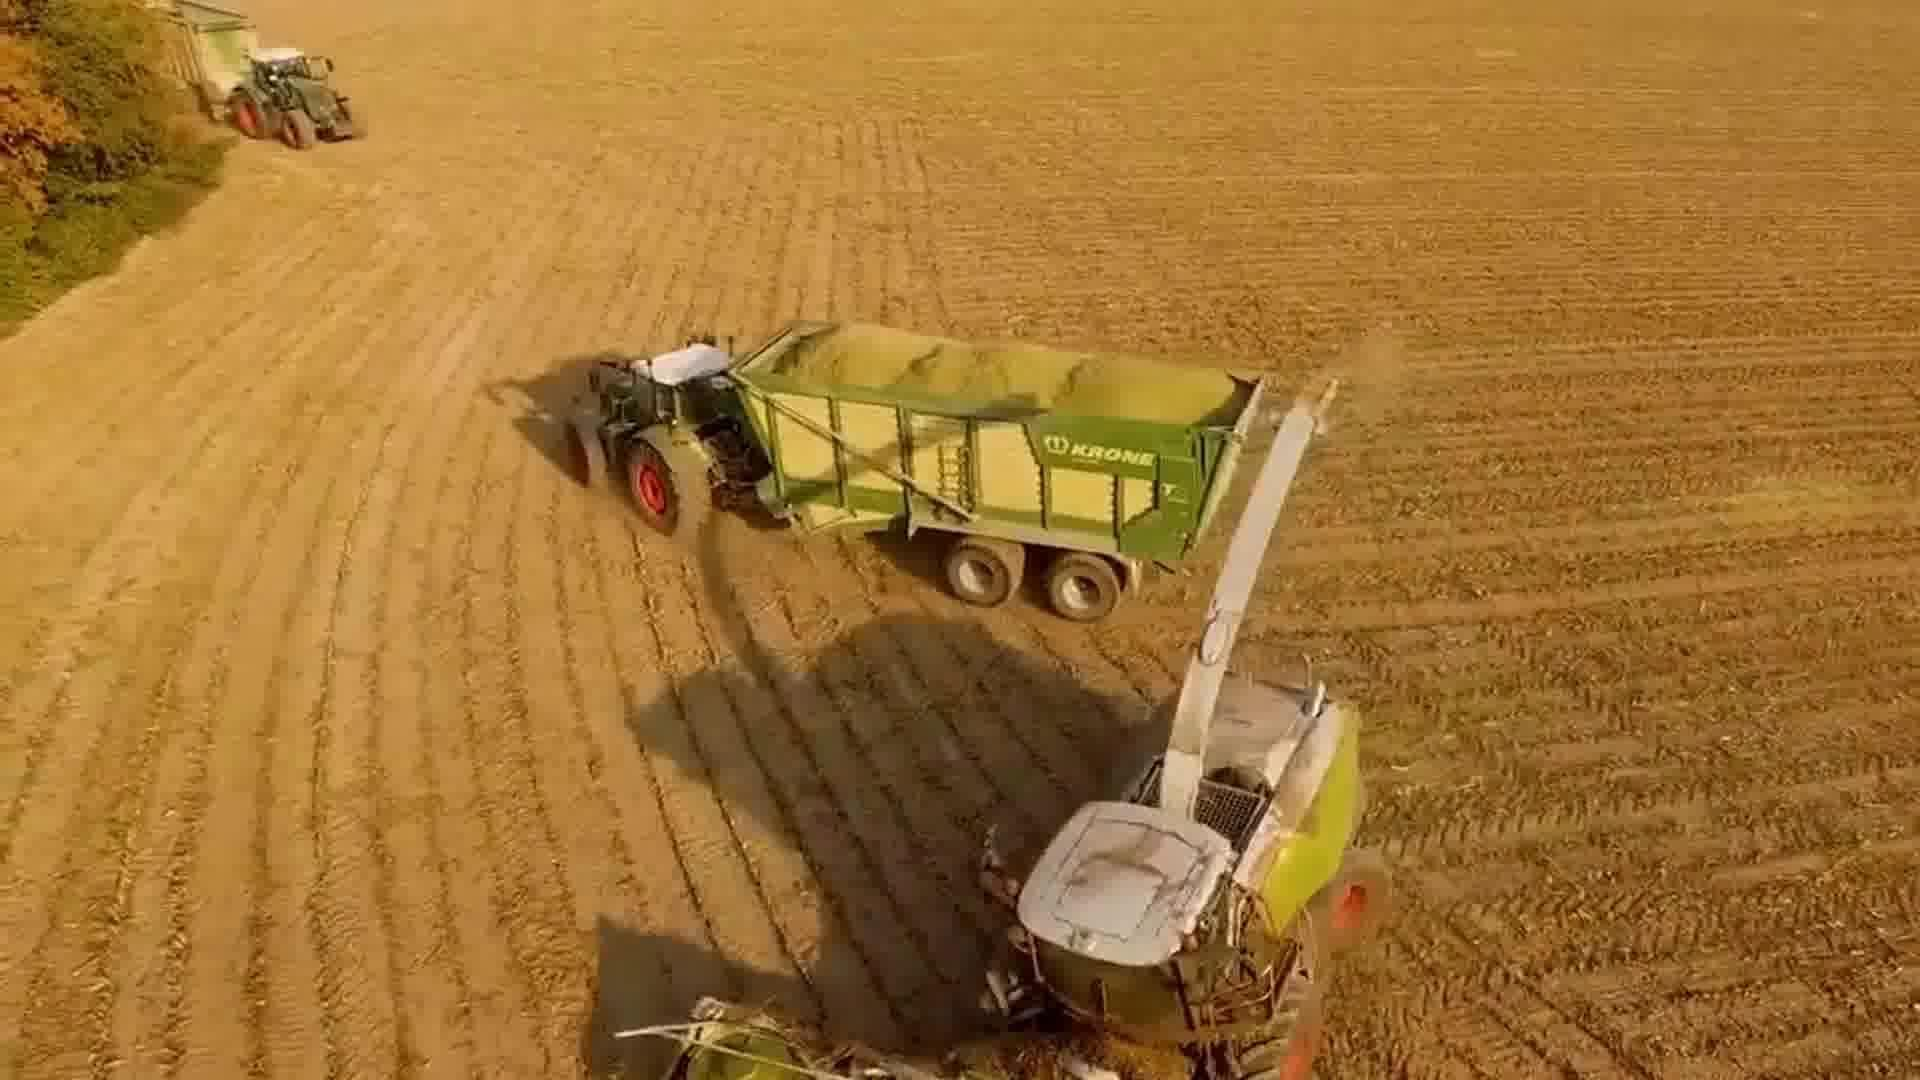combine harvester: (595, 372, 1399, 1080)
tractor: (559, 331, 766, 550), (227, 46, 375, 150)
trailer: (709, 309, 1270, 628), (150, 0, 264, 119)
